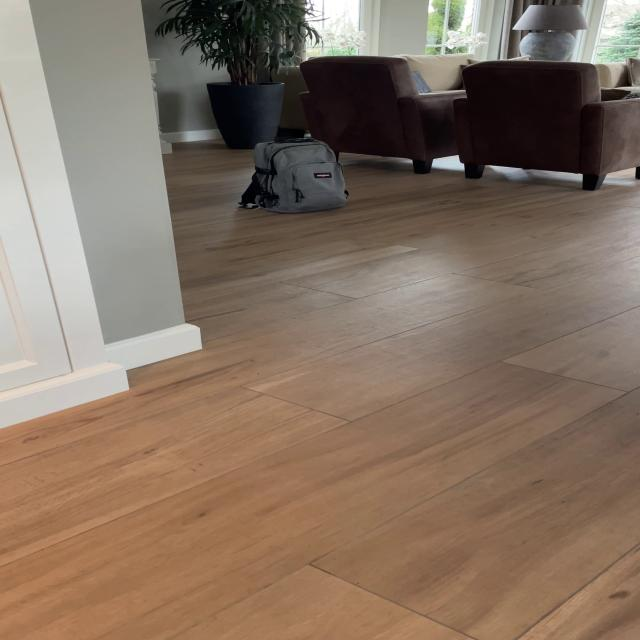backpack: (235, 130, 352, 216)
